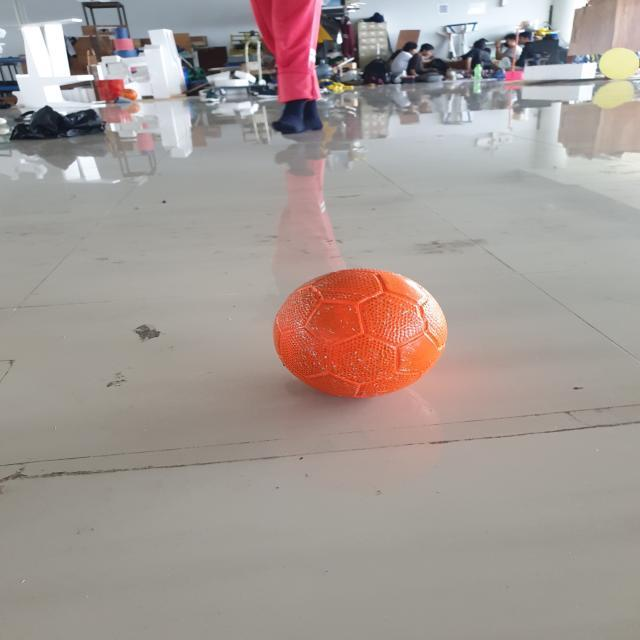bola: (258, 251, 466, 408)
